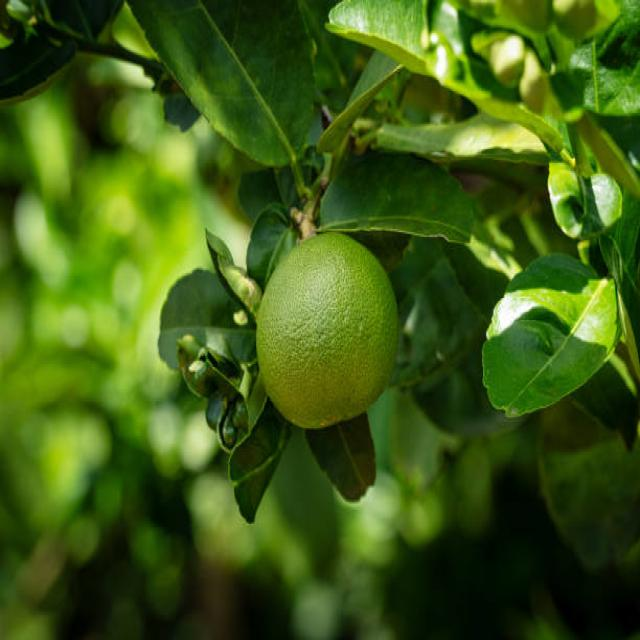Unripe: (255, 228, 399, 433)
